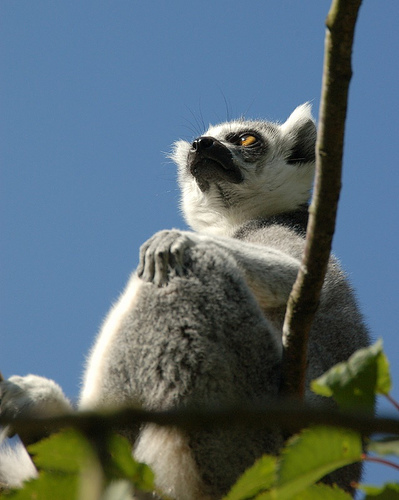cat: (1, 102, 373, 498)
